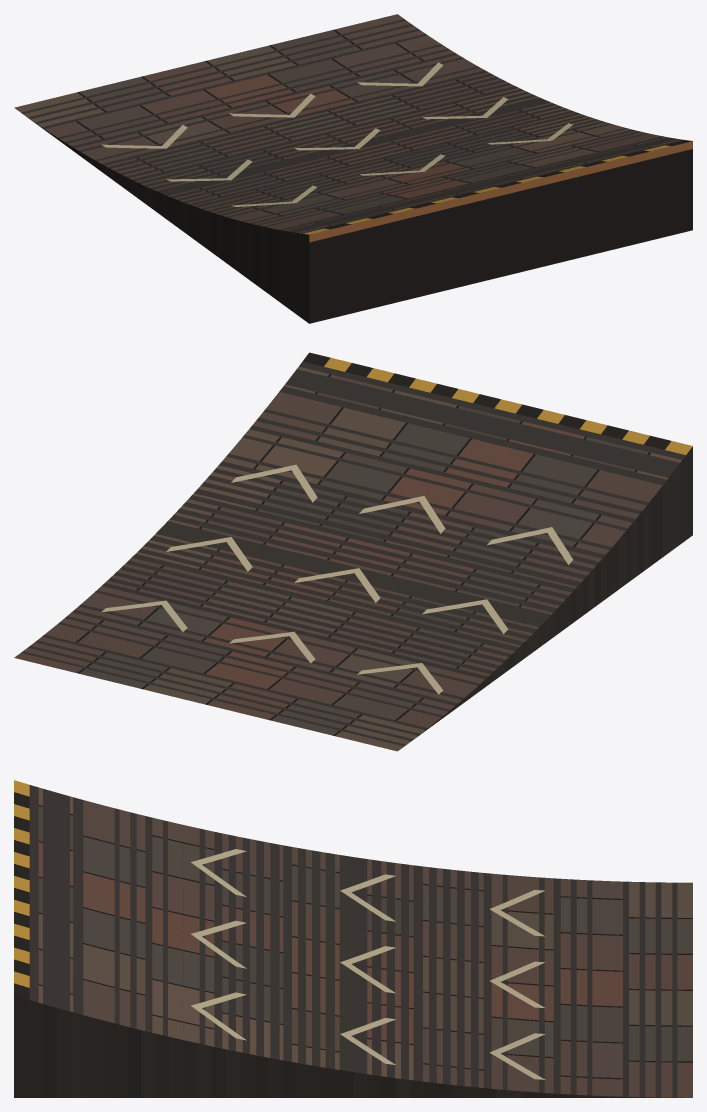
File: plate_kicker_24x4x18.glb
3 views of the same model, one above another, from view 1: azimuth 30°, elevation 25°; view 2: azimuth 150°, elevation 25°; view 3: azimuth 270°, elevation 25° (orthographic). The views are drawn at different scales.
Visible parts, largest first — view 1: plate_kicker_24x4x18, plate_kicker_24x4x18-col; view 2: plate_kicker_24x4x18, plate_kicker_24x4x18-col; view 3: plate_kicker_24x4x18, plate_kicker_24x4x18-col.
Part boxes in pixels (left/top/right/bottom): plate_kicker_24x4x18: left=14, top=14, right=692, bottom=323; plate_kicker_24x4x18-col: left=21, top=19, right=685, bottom=233; plate_kicker_24x4x18: left=14, top=352, right=692, bottom=751; plate_kicker_24x4x18-col: left=21, top=361, right=685, bottom=746; plate_kicker_24x4x18: left=14, top=780, right=692, bottom=1097; plate_kicker_24x4x18-col: left=29, top=785, right=684, bottom=1097.
Size of the model in its own units: 18 by 4 by 24.
